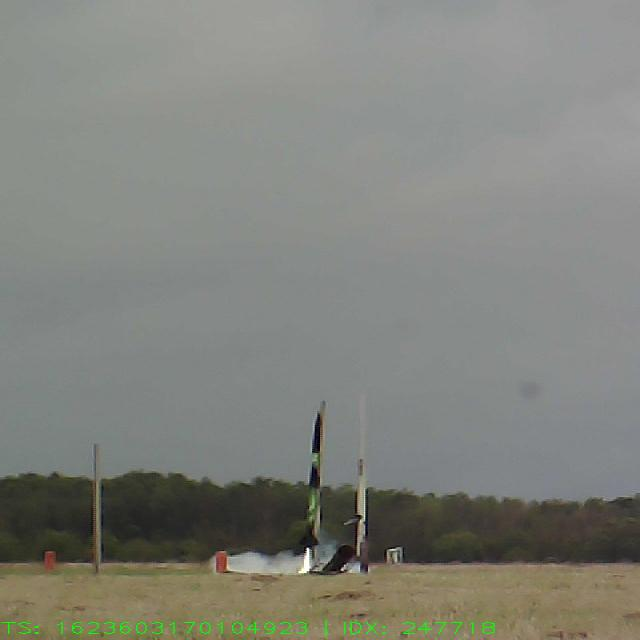Rocket: (300, 410, 324, 547)
